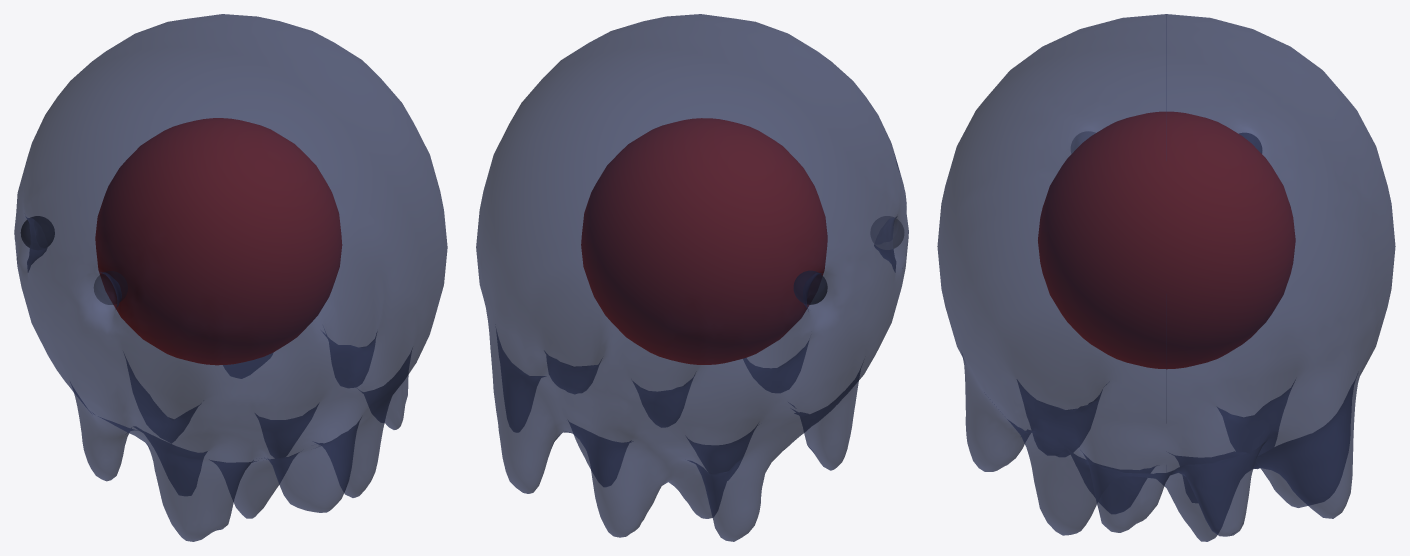
File: mascotte3D.glb
3 views of the same model, side by side, from view 1: azimuth 30°, elevation 25°; view 2: azimuth 150°, elevation 25°; view 3: azimuth 270°, elevation 25° (orthographic). The views are drawn at different scales.
Visible parts, largest first — view 1: Cube, Sphere, Sphere.001, Sphere.002; view 2: Cube, Sphere, Sphere.001, Sphere.002; view 3: Cube, Sphere.
Part boxes in pixels (bbox=[...]): Cube: bbox=[14, 14, 447, 541]; Sphere: bbox=[95, 118, 342, 365]; Sphere.001: bbox=[20, 216, 54, 249]; Sphere.002: bbox=[94, 271, 127, 304]; Cube: bbox=[476, 14, 908, 541]; Sphere: bbox=[581, 118, 827, 364]; Sphere.001: bbox=[793, 271, 827, 304]; Sphere.002: bbox=[871, 216, 904, 248]; Cube: bbox=[937, 14, 1395, 541]; Sphere: bbox=[1038, 111, 1295, 368].
Size of the model in its own units: 1.71 by 2.08 by 1.79.
